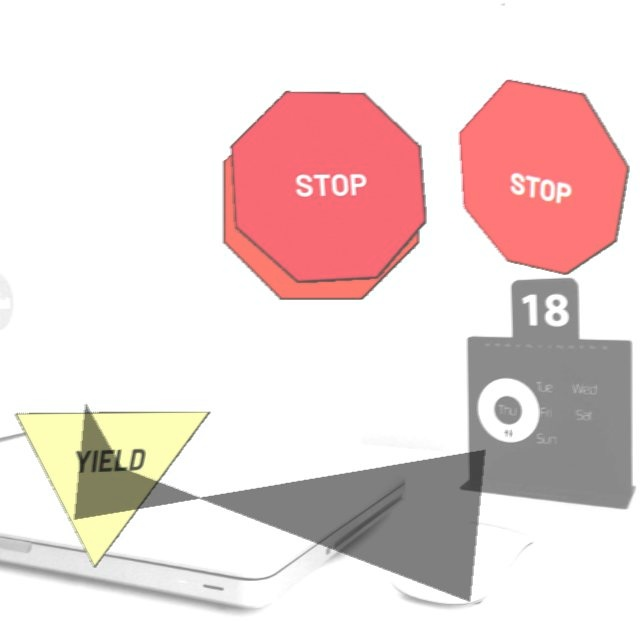STOP: (224, 103, 420, 299), (231, 90, 427, 282), (459, 78, 630, 274)
YIELD: (15, 410, 211, 567)
